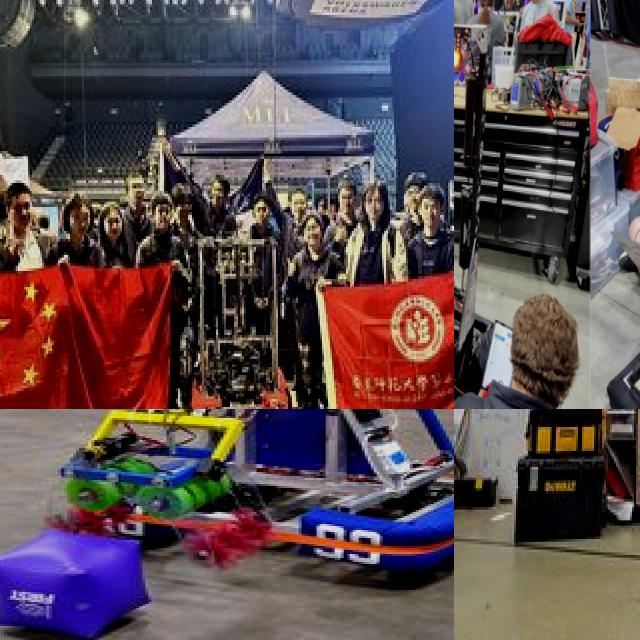FRC-Robots: (106, 409, 454, 602), (454, 0, 529, 409), (188, 219, 336, 409), (522, 409, 640, 607), (588, 0, 640, 409)
